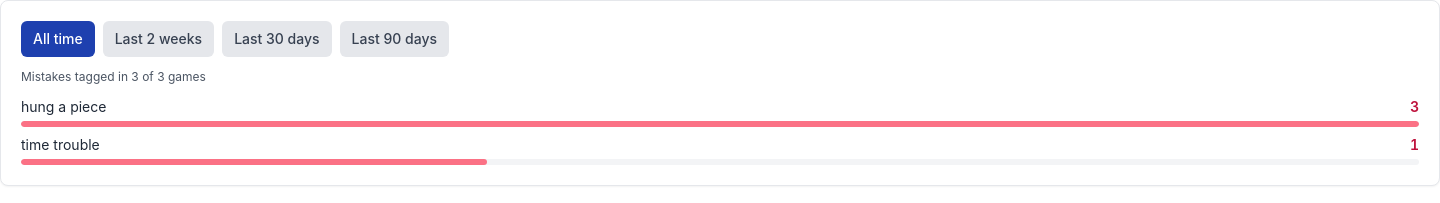
Test: MistakeStatsSection › narrows the counts when a time window is selected
The image size is (1440, 203).
Click the button "Last 2 weeks": (158, 39) x1=103 y1=21 x2=214 y2=57
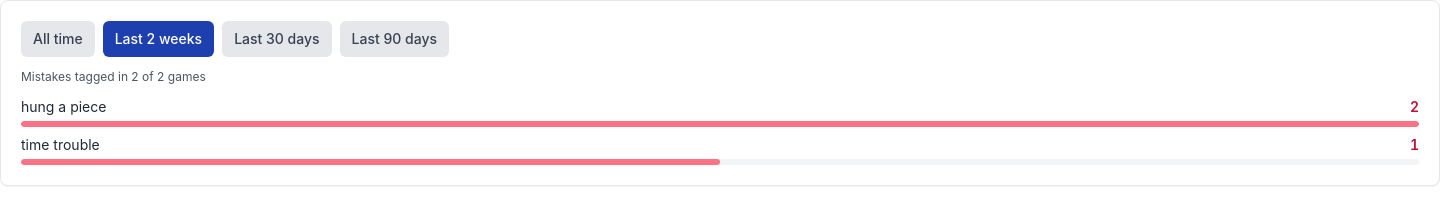
Check: the text "Mistakes tagged in 2 of 2 games" is shown, box x1=21 y1=69 x2=206 y2=84
